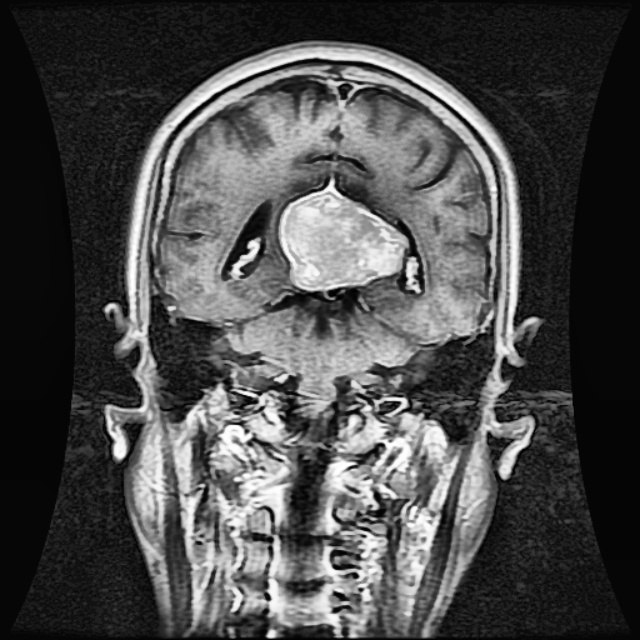Glioma: (279, 189, 408, 289)
